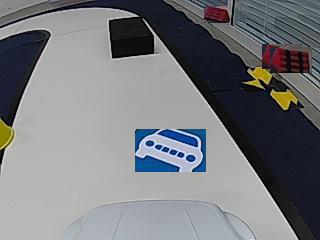block: (109, 16, 154, 57)
cone: (0, 116, 16, 147)
